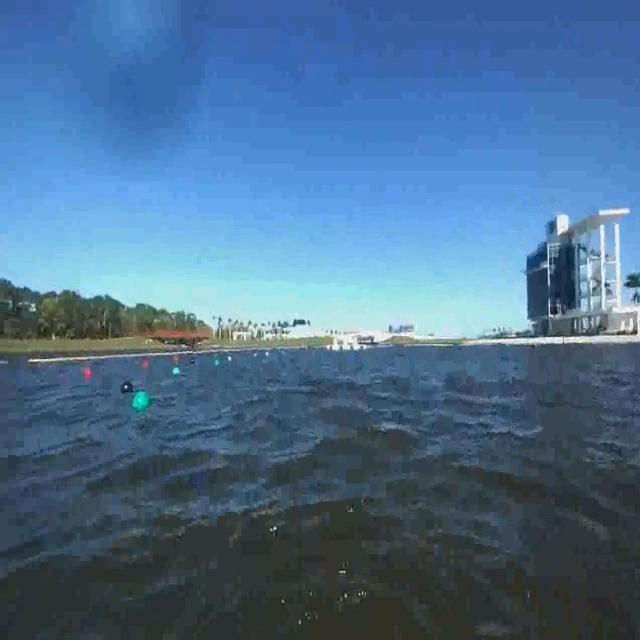black-buoy: (120, 380, 132, 395)
green-buoy: (135, 393, 152, 415), (173, 366, 181, 376)
red-buoy: (141, 358, 151, 373), (83, 366, 92, 379)
